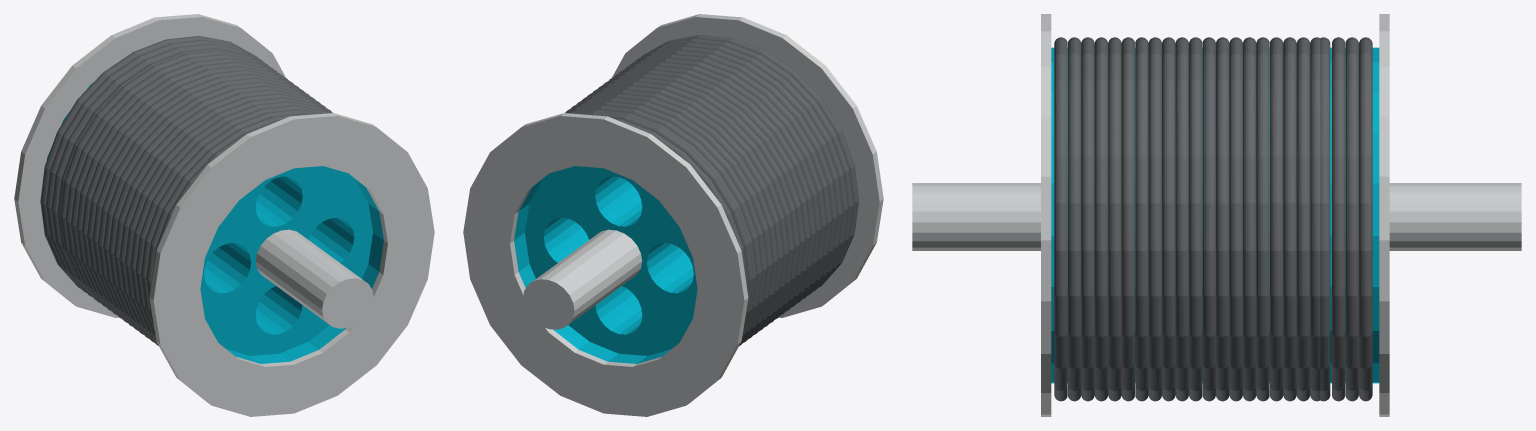
File: down_drum.glb
The picture shows the model from 3 angles, left to right: view 1: azimuth 30°, elevation 25°; view 2: azimuth 150°, elevation 25°; view 3: azimuth 270°, elevation 25°; orthographic projection. The views are drawn at different scales.
Parts seen in each view (by area): view 1: Mesh_Mesh_head_geo.001_lambert2SG.001; view 2: Mesh_Mesh_head_geo.001_lambert2SG.001; view 3: Mesh_Mesh_head_geo.001_lambert2SG.001.
Part boxes in pixels (box(x1,y1,x2,y2)): Mesh_Mesh_head_geo.001_lambert2SG.001: box(14, 14, 434, 416); Mesh_Mesh_head_geo.001_lambert2SG.001: box(463, 14, 883, 416); Mesh_Mesh_head_geo.001_lambert2SG.001: box(912, 14, 1521, 416).
Size of the model in its own units: 6 by 6 by 9.
